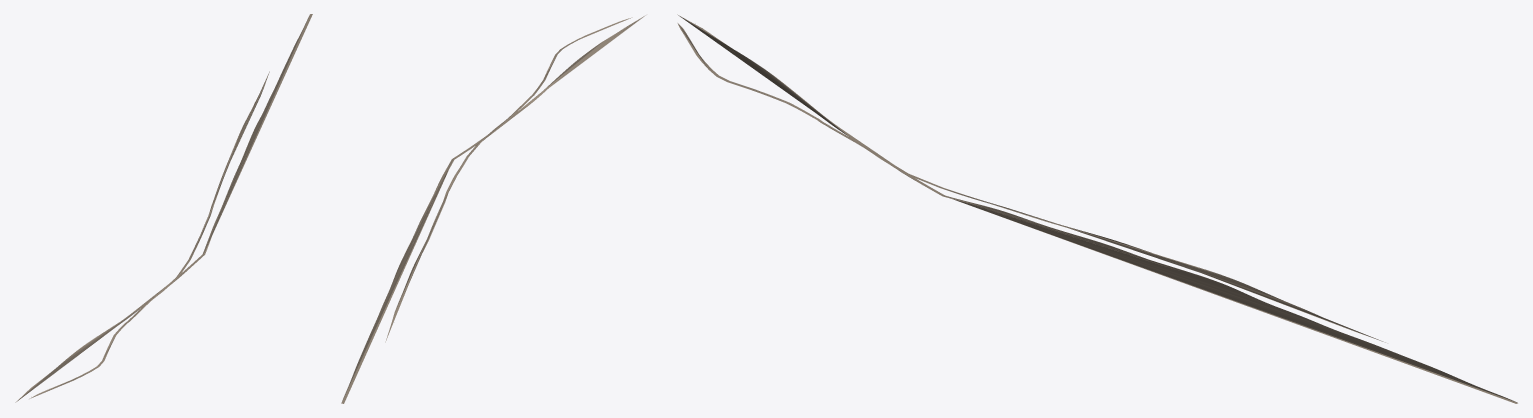
File: rail_2_3.glb
The picture shows the model from 3 angles, left to right: view 1: azimuth 30°, elevation 25°; view 2: azimuth 210°, elevation 25°; view 3: azimuth 270°, elevation 25°; orthographic projection. The views are drawn at different scales.
Parts seen in each view (by area): view 1: geometry_0; view 2: geometry_0; view 3: geometry_0.
Part boxes in pixels (<box>): geometry_0: <box>15,14,312,402</box>; geometry_0: <box>341,15,645,403</box>; geometry_0: <box>677,14,1517,403</box>.
Bounding box in the file's own units: 1038 × 22.26 × 932.
